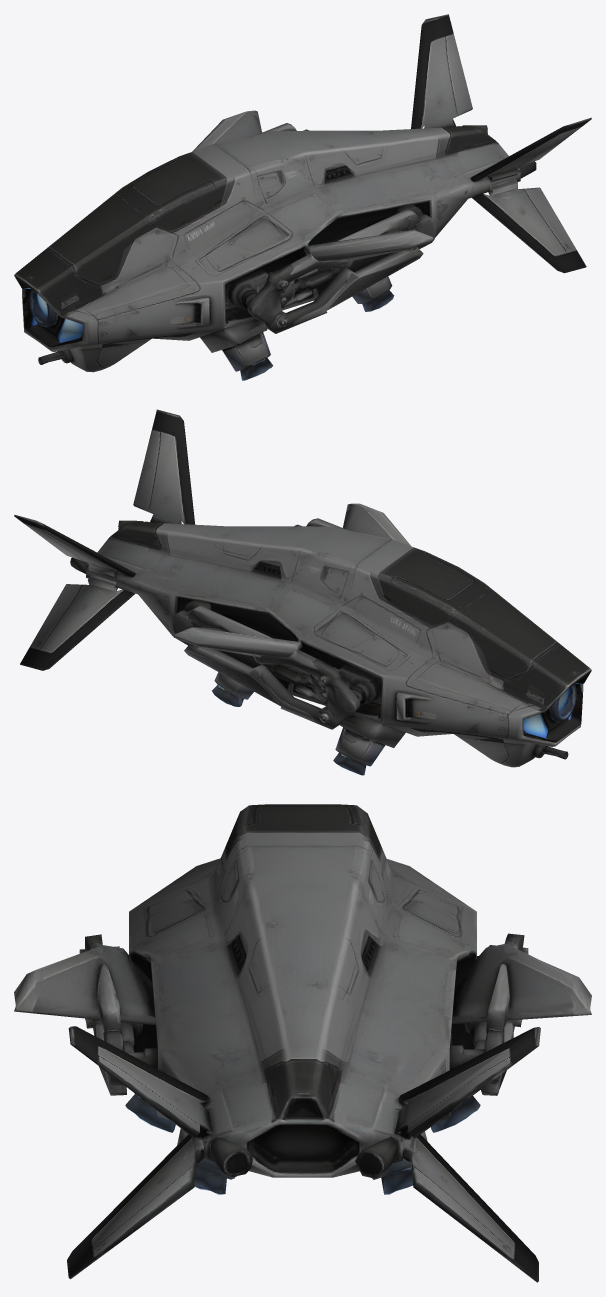
The model's file is selected.glb.
3 renders of one model, top to bottom at view 1: azimuth 30°, elevation 25°; view 2: azimuth 150°, elevation 25°; view 3: azimuth 270°, elevation 25°, orthographic. The views are drawn at different scales.
Parts seen in each view (by area): view 1: tripo_node_cd4239c7-a3c0-424b-a5d9-6c616df78a2e; view 2: tripo_node_cd4239c7-a3c0-424b-a5d9-6c616df78a2e; view 3: tripo_node_cd4239c7-a3c0-424b-a5d9-6c616df78a2e.
Part boxes in pixels (x1,y1,x2,y2): tripo_node_cd4239c7-a3c0-424b-a5d9-6c616df78a2e: (14, 14, 591, 380); tripo_node_cd4239c7-a3c0-424b-a5d9-6c616df78a2e: (14, 409, 591, 775); tripo_node_cd4239c7-a3c0-424b-a5d9-6c616df78a2e: (14, 804, 591, 1282).
Size of the model in its own units: 0.998 by 0.3965 by 0.6191.
Materials: 1 (1 with a texture image).
